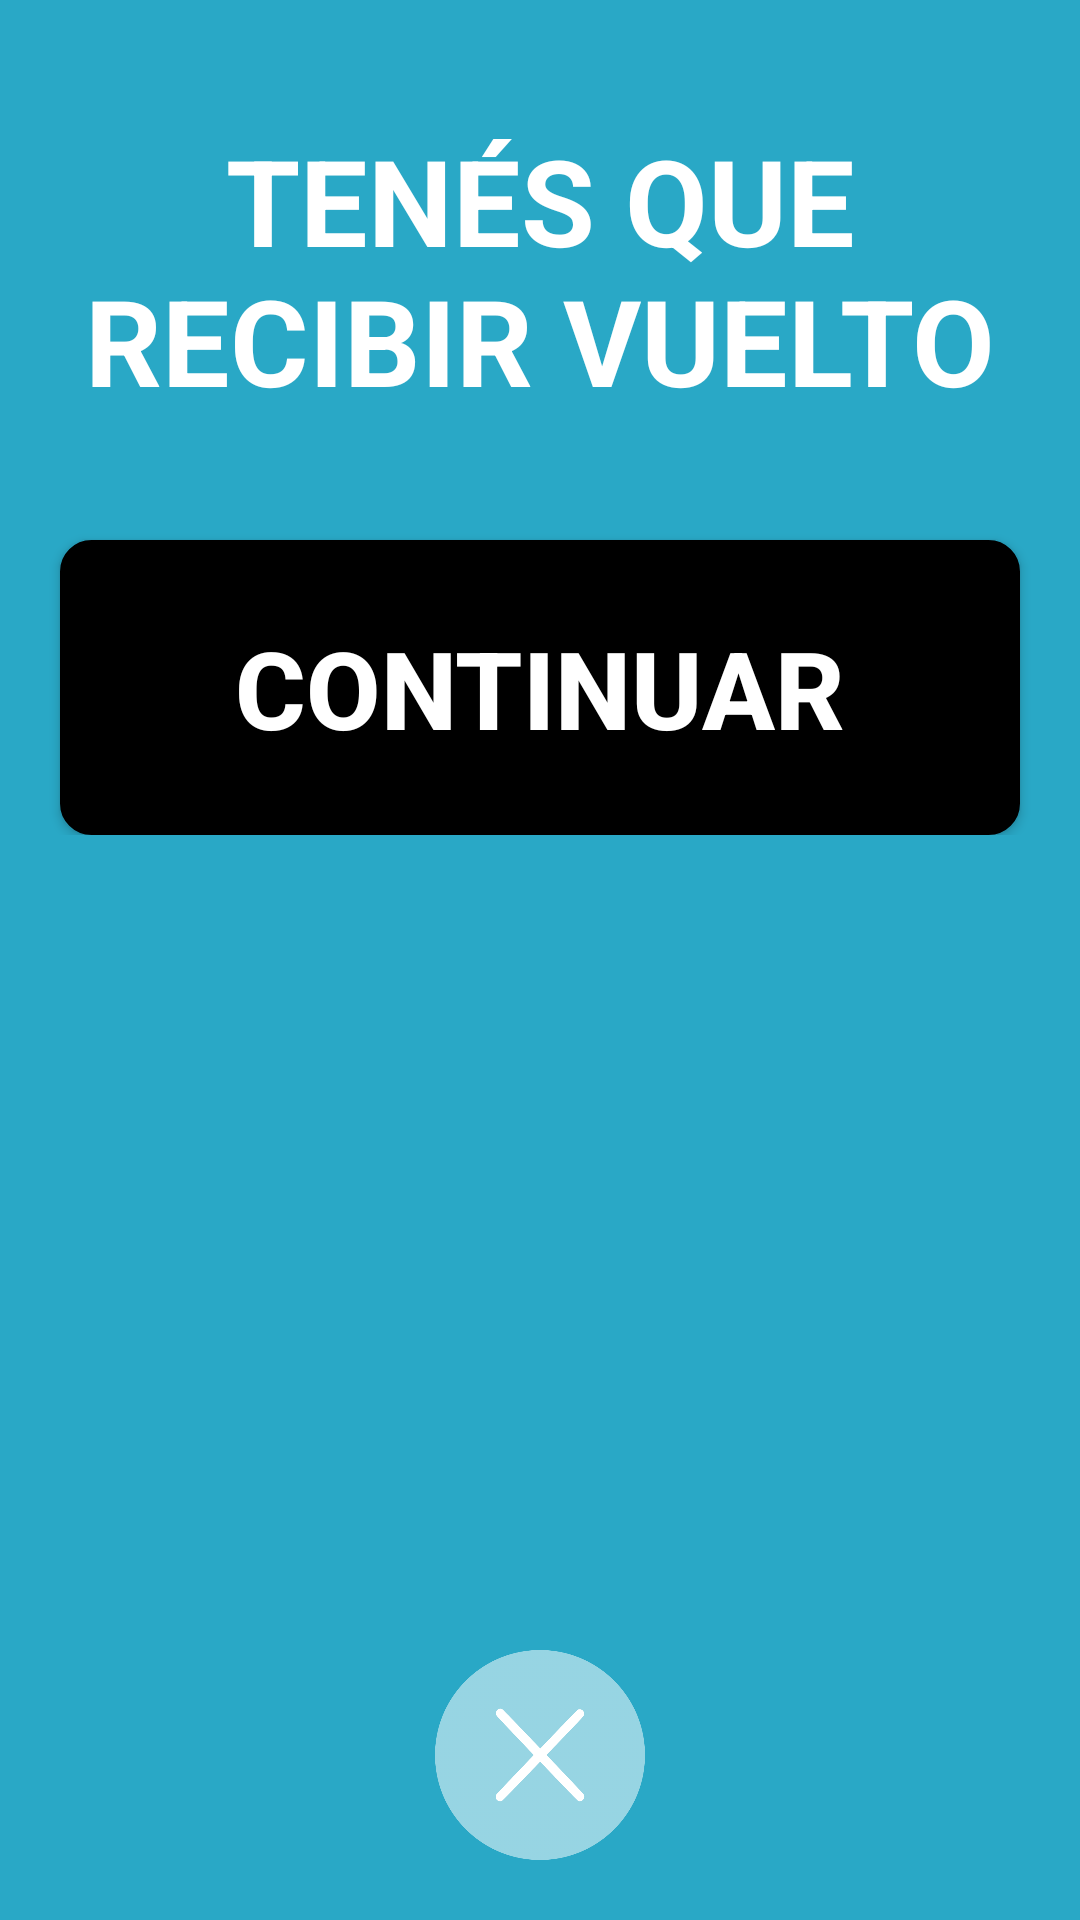

Where icons sit on this 1080 × 1920 app screen, as (x1, y1, x2, y2):
cancelar: (435, 1650, 645, 1860)
